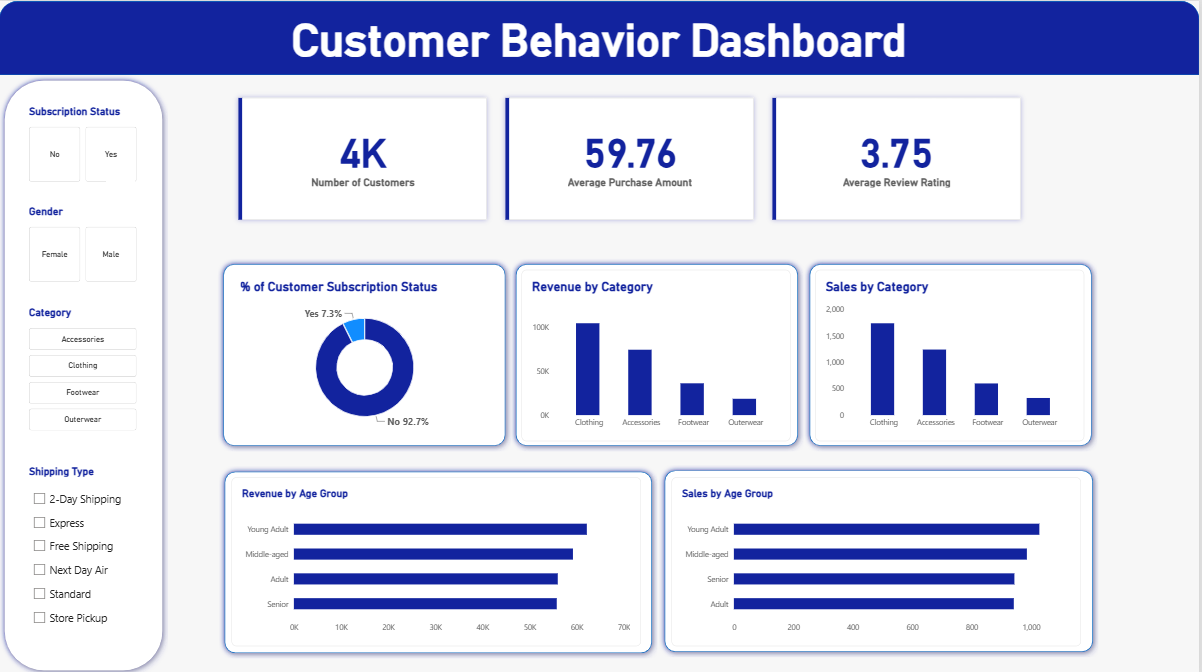

This screenshot's page, from the dashboard's own definition file:
{"tool":"powerbi","page":{"name":"Page 1","canvas":[1920,1080],"ordinal":0},"visuals":[{"type":"cardVisual","fields":{"Data":["public customer.Number of Customers","public customer.Average Purchase Amount","public customer.Average Review Rating"]},"box":[372.6,145,1274.3,217.1],"z":0},{"type":"shape","box":[0,0,1920.6,118.5],"z":1000},{"type":"textbox","box":[0,20.3,1920,150],"z":2000},{"type":"shape","box":[349.2,411.5,469.2,308.7],"z":3000},{"type":"donutChart","title":"% of Customer Subscription Status","fields":{"Category":["public customer.subscription_status"],"Y":["Sum(public customer.customer_id)"]},"box":[369.5,428.7,430.3,274.4],"z":4000},{"type":"shape","box":[818.4,411.5,469.2,308.7],"z":5000},{"type":"shape","box":[1287.7,411.5,469.2,308.7],"z":6000},{"type":"clusteredColumnChart","title":"Revenue by Category","fields":{"Category":["public customer.category"],"Y":["Sum(public customer.purchase_amount)"]},"box":[837.1,428.7,430.3,274.4],"z":7000},{"type":"clusteredColumnChart","title":"Sales by Category","fields":{"Category":["public customer.category"],"Y":["CountNonNull(public customer.customer_id)"]},"box":[1306.4,428.7,430.3,274.4],"z":8000},{"type":"shape","box":[0,118,270.6,962.2],"z":9000},{"type":"advancedSlicerVisual","title":"Subscription Status","fields":{"Values":["public customer.subscription_status"]},"box":[48.8,166.3,172.5,123.8],"z":10000},{"type":"advancedSlicerVisual","title":"Gender","fields":{"Values":["public customer.gender"]},"box":[48.3,326.3,172.5,123.8],"z":11000},{"type":"advancedSlicerVisual","title":"Category","fields":{"Values":["public customer.category"]},"box":[48.3,488,172.5,200],"z":11001},{"type":"slicer","title":"Shipping Type","fields":{"Values":["public customer.shipping_type"]},"box":[48.3,741.3,172.5,293.8],"z":11002},{"type":"shape","box":[352,744,701.7,308.3],"z":11004,"group":"g1"},{"type":"shape","box":[1055,741.7,703.3,308.3],"z":11005},{"type":"clusteredBarChart","title":"Sales by Age Group","fields":{"Category":["public customer.age_group"],"Y":["CountNonNull(public customer.customer_id)"]},"box":[1074,762,655,270],"z":11006},{"type":"group","id":"g1","title":"Group 1","box":[352,744,702,308],"z":11007},{"type":"clusteredBarChart","title":"Revenue by Age Group","fields":{"Category":["public customer.age_group"],"Y":["Sum(public customer.purchase_amount)"]},"box":[372,762,655,270],"z":11008}]}

Visuals, with their boxes in screenshot pixels (x1, y1, x2, y2), scaled from the page's 1920x1080 canvas onto the 1202x672 screenshot:
cardVisual - public customer.Number of Customers x public customer.Average Purchase Amount: select_region(233, 90, 1031, 225)
shape: select_region(0, 0, 1201, 74)
textbox: select_region(0, 13, 1201, 106)
shape: select_region(219, 256, 512, 448)
"% of Customer Subscription Status" donutChart: select_region(231, 267, 501, 437)
shape: select_region(512, 256, 806, 448)
shape: select_region(806, 256, 1100, 448)
"Revenue by Category" clusteredColumnChart: select_region(524, 267, 793, 437)
"Sales by Category" clusteredColumnChart: select_region(818, 267, 1087, 437)
shape: select_region(0, 73, 169, 671)
"Subscription Status" advancedSlicerVisual: select_region(31, 103, 139, 181)
"Gender" advancedSlicerVisual: select_region(30, 203, 138, 280)
"Category" advancedSlicerVisual: select_region(30, 304, 138, 428)
"Shipping Type" slicer: select_region(30, 461, 138, 644)
shape: select_region(220, 463, 660, 655)
shape: select_region(660, 462, 1101, 653)
"Sales by Age Group" clusteredBarChart: select_region(672, 474, 1082, 642)
"Group 1" group: select_region(220, 463, 660, 655)
"Revenue by Age Group" clusteredBarChart: select_region(233, 474, 643, 642)
